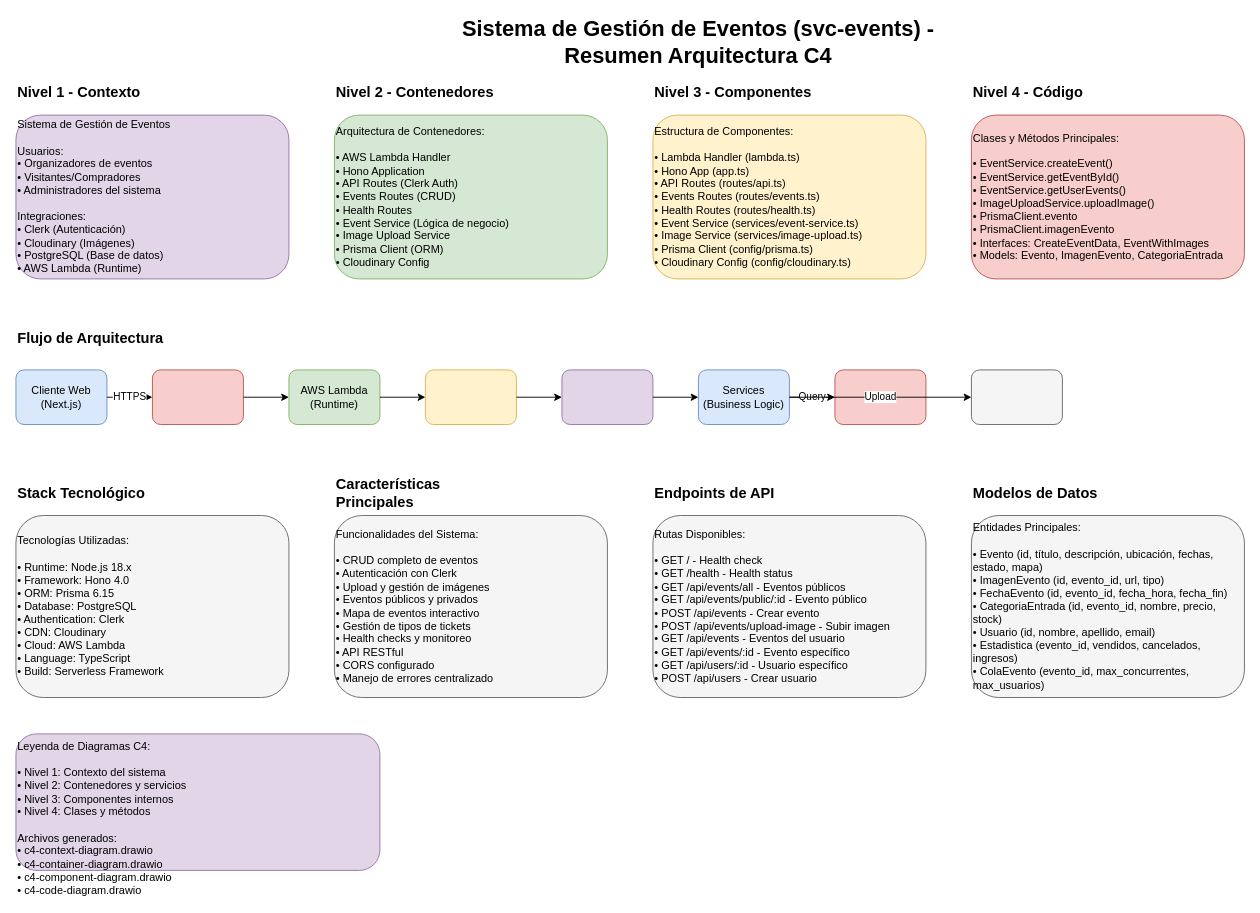
This 1260x913 diagram has some shape labels left out. The centre of each missing label's shape, as x and y in pixels:
"API Gateway (AWS)" belongs at point (197, 397).
"Cloudinary (CDN)" belongs at point (1016, 397).
"Hono App (Framework)" belongs at point (470, 397).
"PostgreSQL (Database)" belongs at point (880, 397).
"Routes (API/Events)" belongs at point (607, 397).
